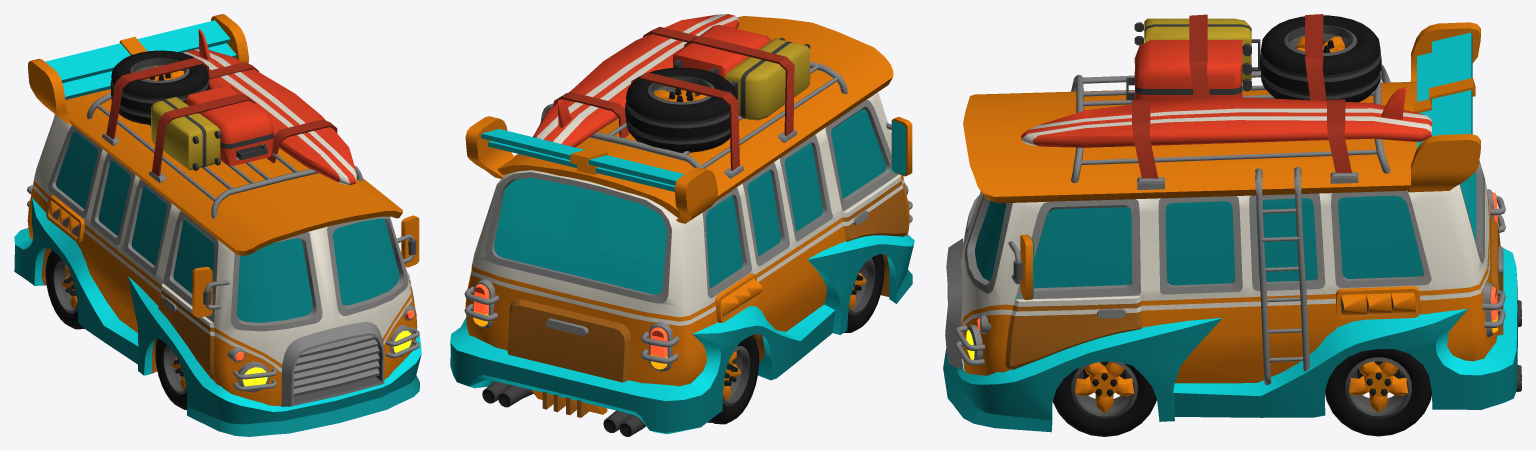
Rendered from VEH22_C.fbx.
3 renders of one model, left to right at view 1: azimuth 30°, elevation 25°; view 2: azimuth 150°, elevation 25°; view 3: azimuth 270°, elevation 25°, orthographic. The views are drawn at different scales.
Parts seen in each view (by area): view 1: VEH22_C, VEH22C_BodyParts, VEH22C_Wheel_BR, VEH22C_Wheel_FR; view 2: VEH22_C, VEH22C_BodyParts, VEH22C_Wheel_BR, VEH22C_Wheel_FR; view 3: VEH22_C, VEH22C_BodyParts, VEH22C_Wheel_BL, VEH22C_Wheel_FL.
Boxes of the visible parts, box(x1,y1,x2,y2) form: VEH22_C: box(14, 14, 421, 436); VEH22C_BodyParts: box(102, 29, 356, 185); VEH22C_Wheel_BR: box(45, 250, 84, 329); VEH22C_Wheel_FR: box(155, 339, 186, 409); VEH22_C: box(450, 16, 914, 436); VEH22C_BodyParts: box(533, 14, 810, 178); VEH22C_Wheel_BR: box(707, 335, 759, 424); VEH22C_Wheel_FR: box(844, 254, 884, 332); VEH22_C: box(943, 22, 1521, 432); VEH22C_BodyParts: box(1021, 14, 1431, 385); VEH22C_Wheel_BL: box(1325, 349, 1431, 436); VEH22C_Wheel_FL: box(1053, 361, 1156, 436).
Size of the model in its own units: 259 by 287 by 462.
Materials: 1 (1 with a texture image).
